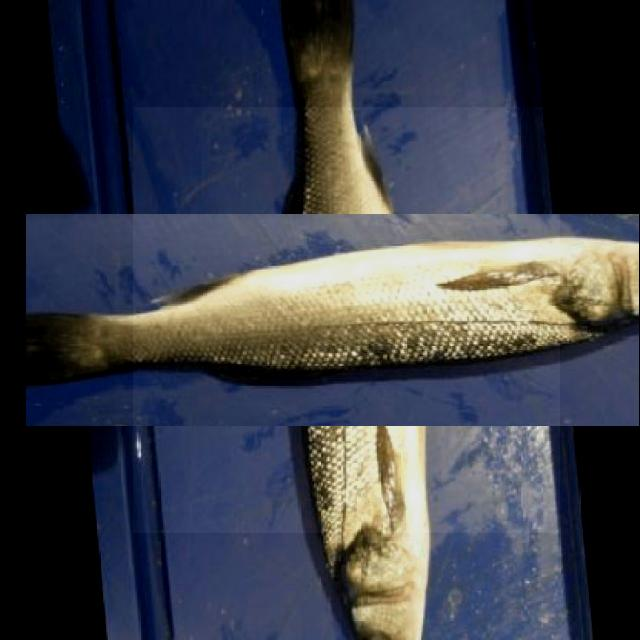Healthy Fish: (133, 107, 560, 533)
